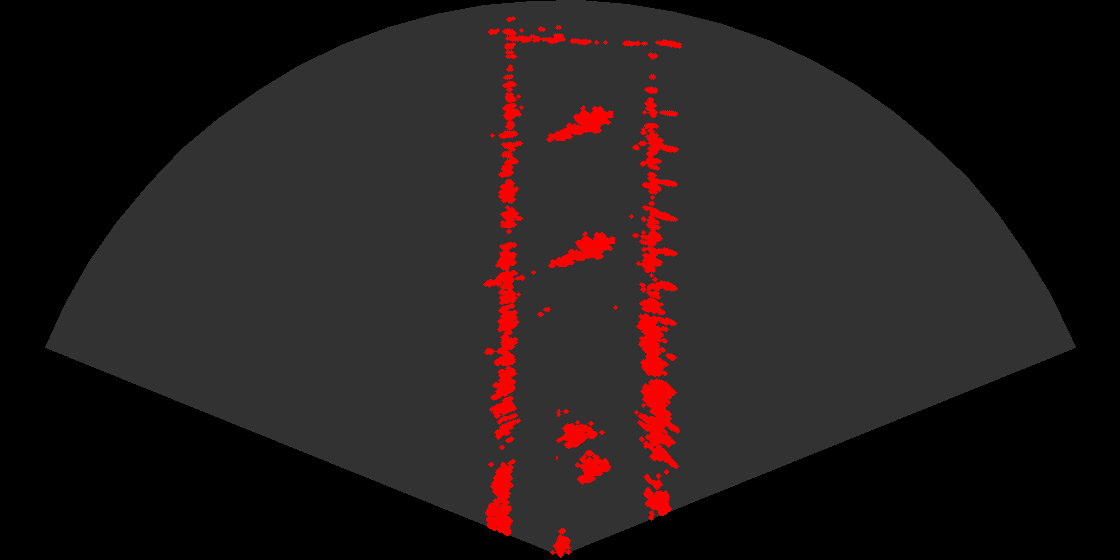cage: (556, 409, 619, 493)
frogman: (547, 225, 615, 272), (545, 99, 613, 146)
